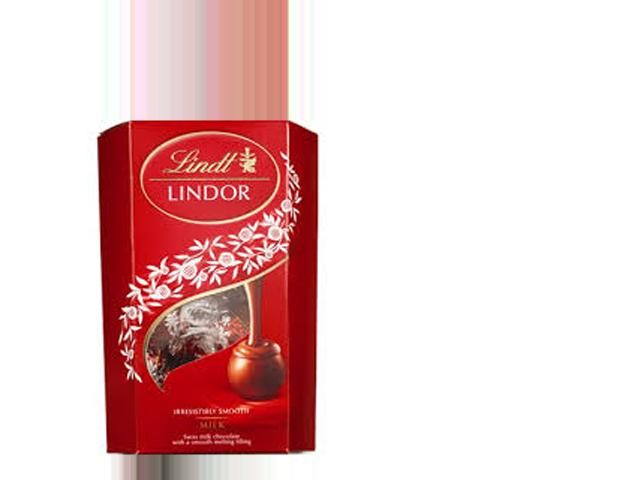chocolate: (91, 120, 333, 456)
